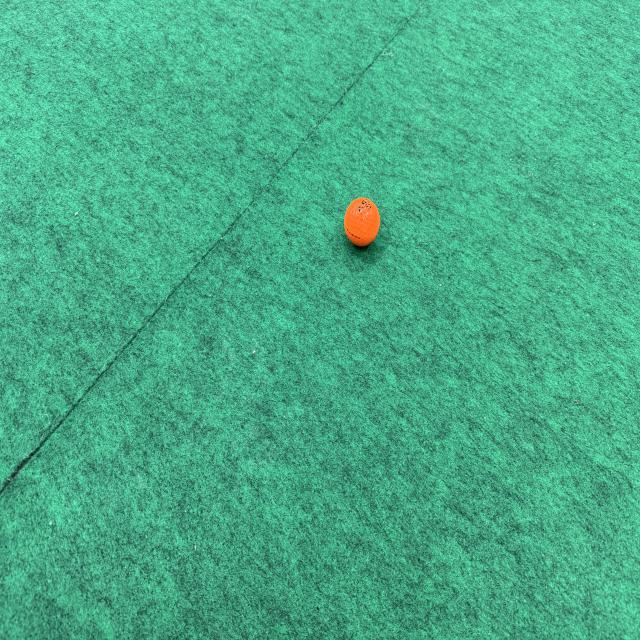ball: (343, 196, 382, 247)
